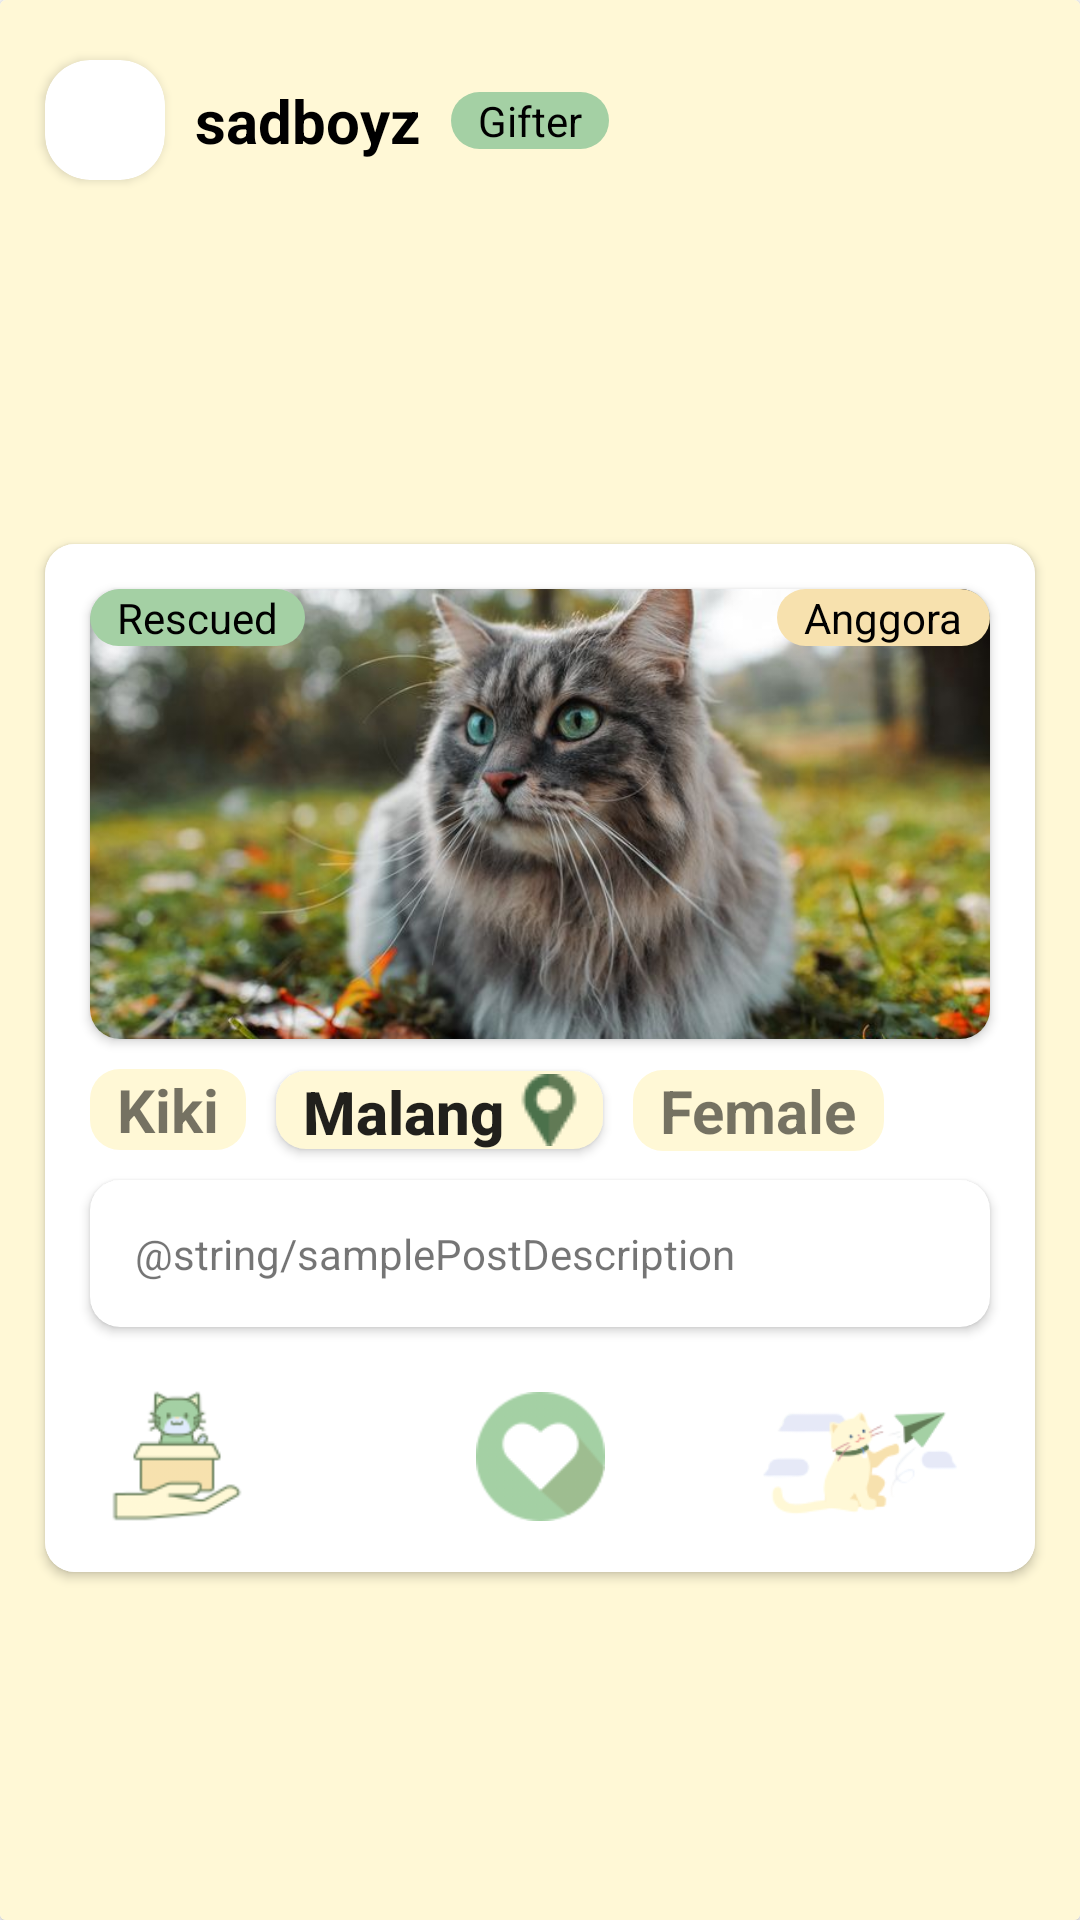

Point at icon controls on the screen. Image size 1080 × 1920, points as [x,y].
favorite: [540,1456]
share: [860,1462]
